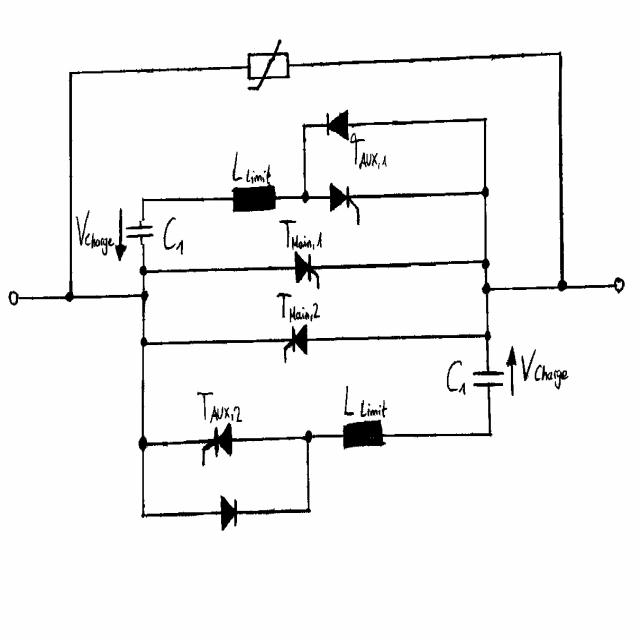capacitor: (125, 218, 156, 248), (471, 367, 506, 391)
diode: (219, 493, 239, 533), (326, 108, 350, 141)
inductor: (231, 183, 279, 215), (342, 418, 387, 449)
junction: (556, 277, 569, 293), (300, 188, 310, 205), (138, 435, 148, 451), (304, 429, 314, 444), (64, 290, 75, 303), (140, 289, 150, 303), (482, 282, 491, 296), (481, 257, 490, 271), (481, 185, 490, 199), (483, 329, 492, 342), (139, 265, 148, 277), (140, 336, 148, 349), (556, 49, 564, 60), (67, 69, 75, 78), (140, 195, 147, 205), (301, 122, 308, 131), (140, 511, 147, 519), (305, 506, 312, 514), (487, 430, 493, 438), (482, 115, 488, 123)
terminal: (612, 275, 626, 293), (7, 289, 21, 307)
text: (520, 347, 569, 391), (75, 209, 114, 256), (196, 390, 244, 424), (343, 385, 388, 418), (350, 132, 388, 169), (232, 150, 272, 185), (276, 291, 321, 322), (279, 219, 323, 250), (161, 215, 185, 256), (446, 359, 467, 397)
thyristor: (201, 422, 234, 467), (328, 181, 361, 217), (294, 250, 321, 289), (283, 324, 308, 364)
